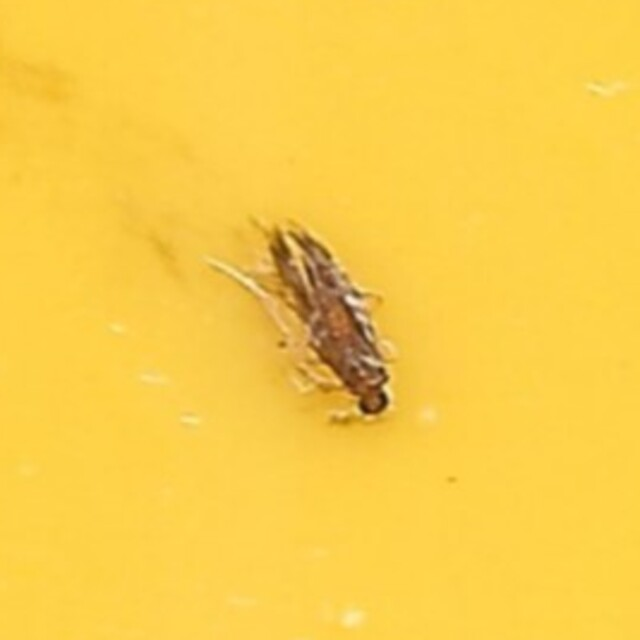Trichoptera: (240, 218, 400, 422)
